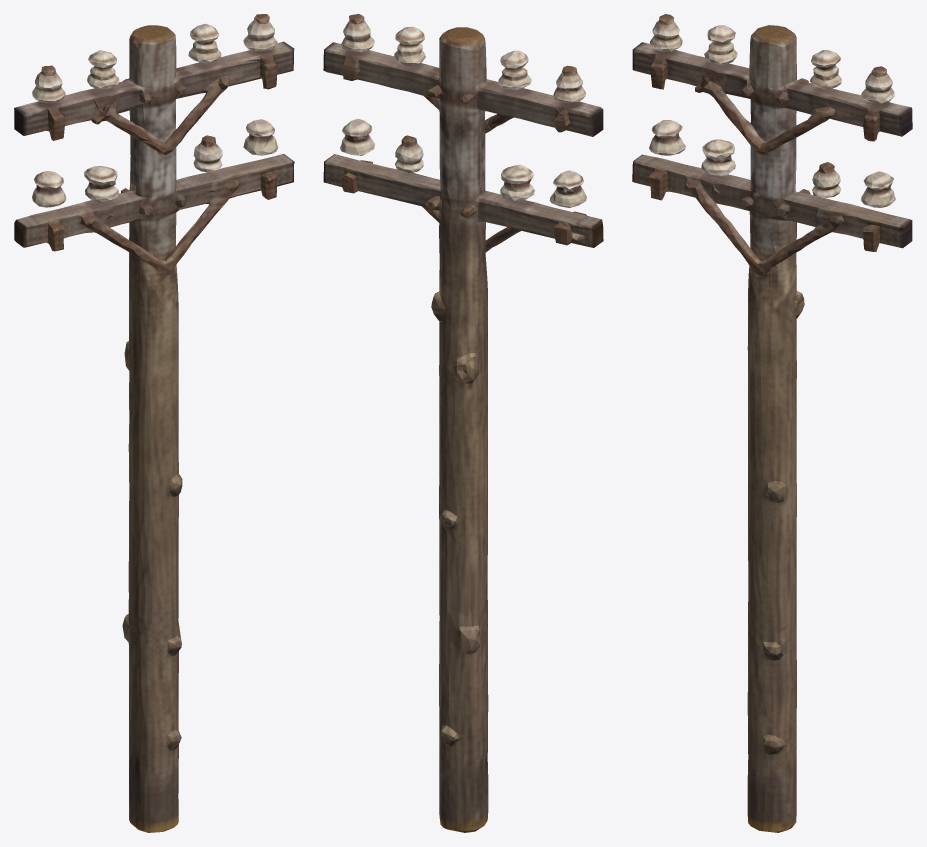
File: pole.obj
3 renders of one model, left to right at view 1: azimuth 30°, elevation 25°; view 2: azimuth 150°, elevation 25°; view 3: azimuth 330°, elevation 25°, orthographic.
Visible parts, largest first — view 1: pole; view 2: pole; view 3: pole.
Part boxes in pixels (x1,y1,x2,y2): pole: (14,14,294,832); pole: (323,14,603,832); pole: (632,14,912,832).
Bounding box in the file's own units: 2.87 × 8 × 0.5324.
1 material, 1 textured.
